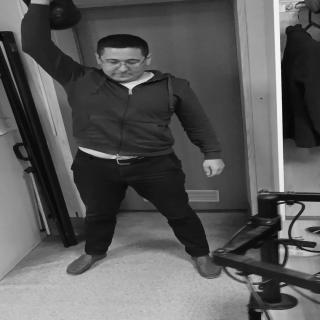girya: (24, 2, 86, 31)
